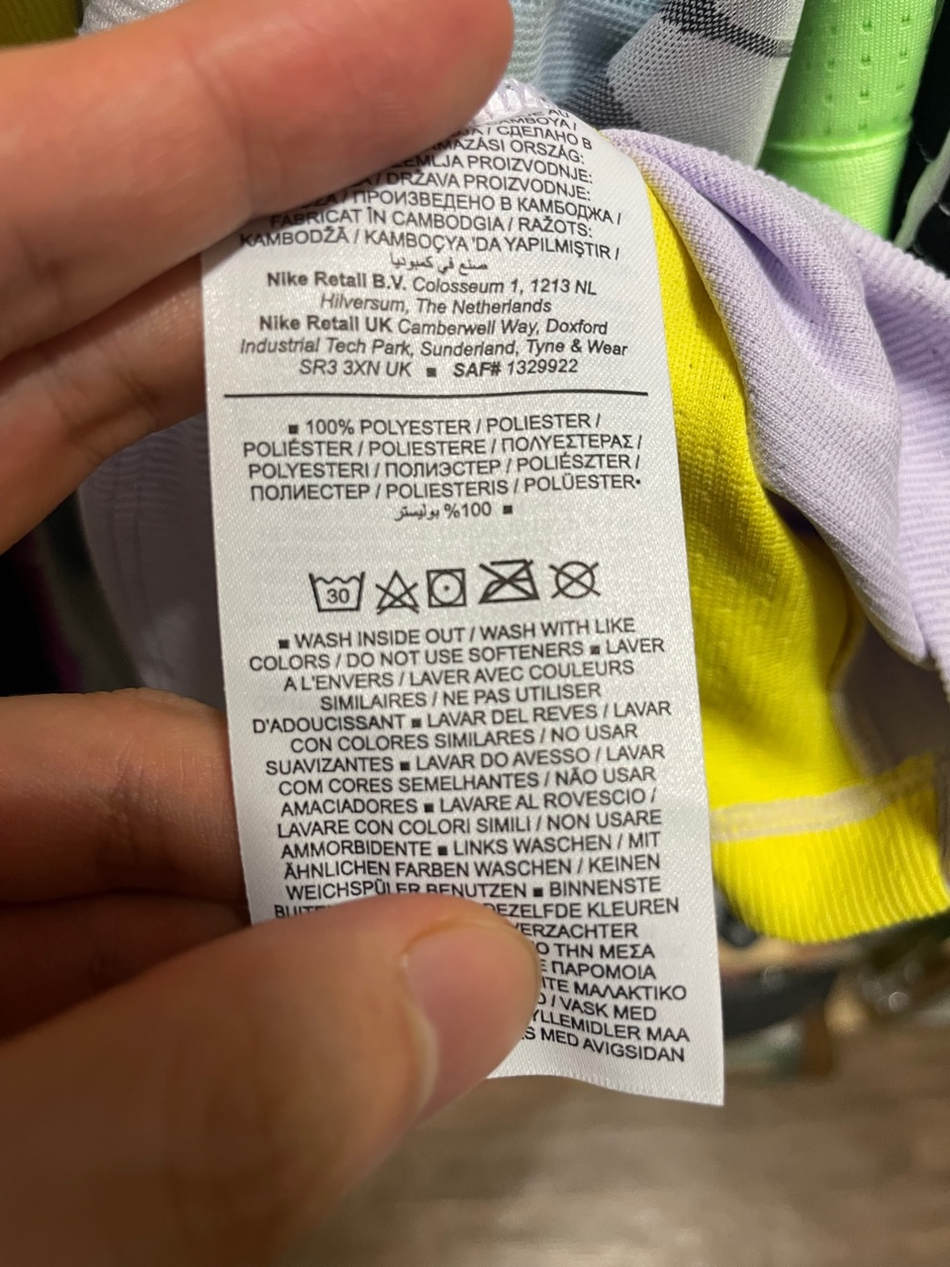ER_no_bleach: (375, 567, 423, 621)
ER_no_dry_clean: (547, 548, 604, 603)
ER_no_iron: (473, 554, 544, 606)
ER_tumble_dry_low_heat: (424, 562, 475, 615)
ER_wash_30: (305, 562, 369, 624)
